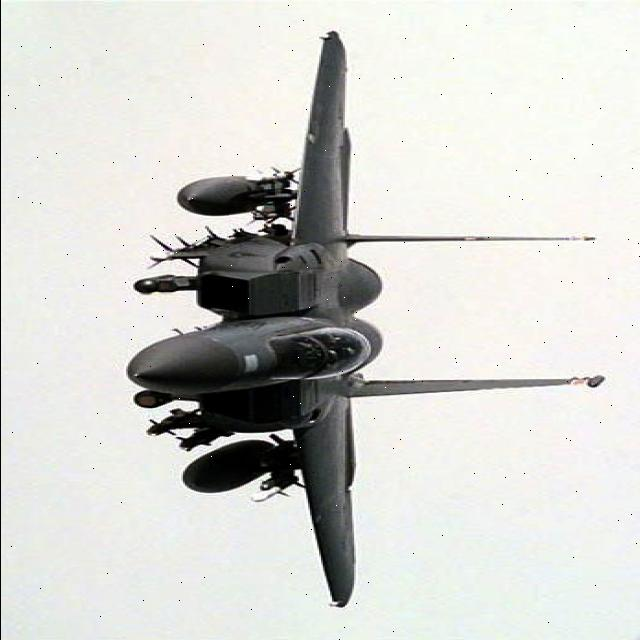F15: (96, 16, 634, 628)
